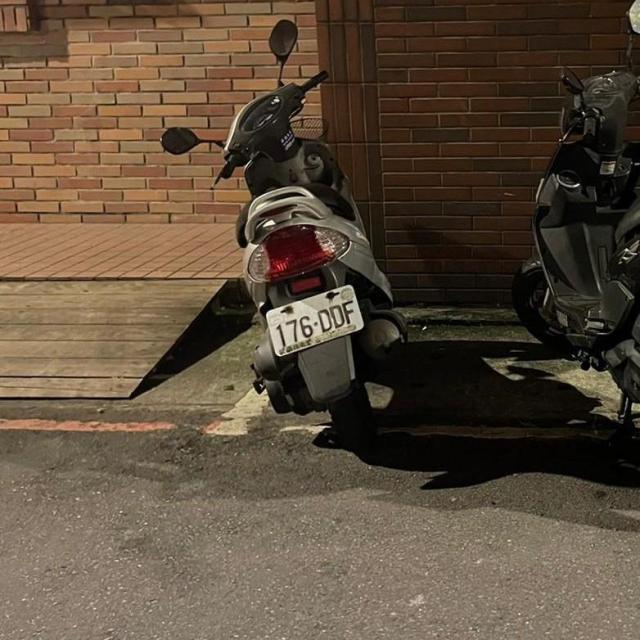W: (259, 282, 371, 359)
